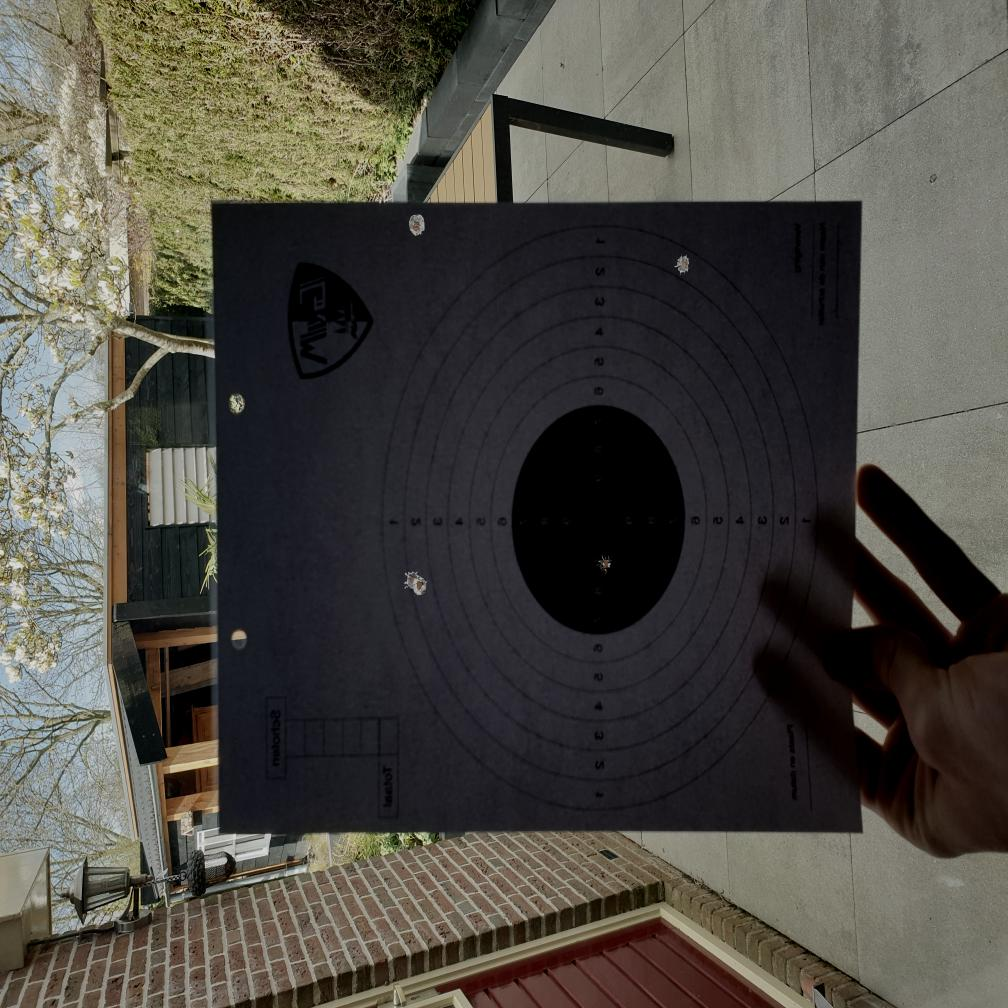0: (409, 215, 424, 237)
1: (676, 254, 690, 275)
2: (403, 569, 420, 593), (410, 572, 427, 596)
9: (598, 555, 612, 573)
Target: (382, 219, 820, 818)
black_contour: (511, 405, 684, 635)
